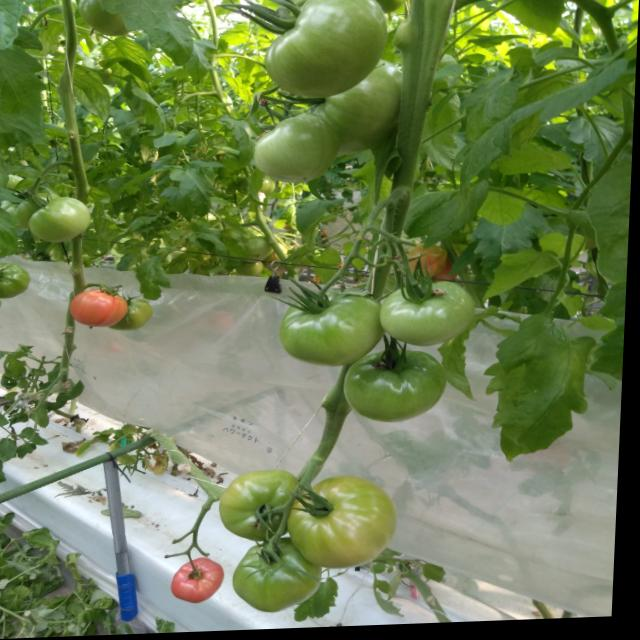yesil: (270, 267, 484, 430), (247, 0, 420, 191), (196, 451, 415, 601), (22, 159, 122, 256)
